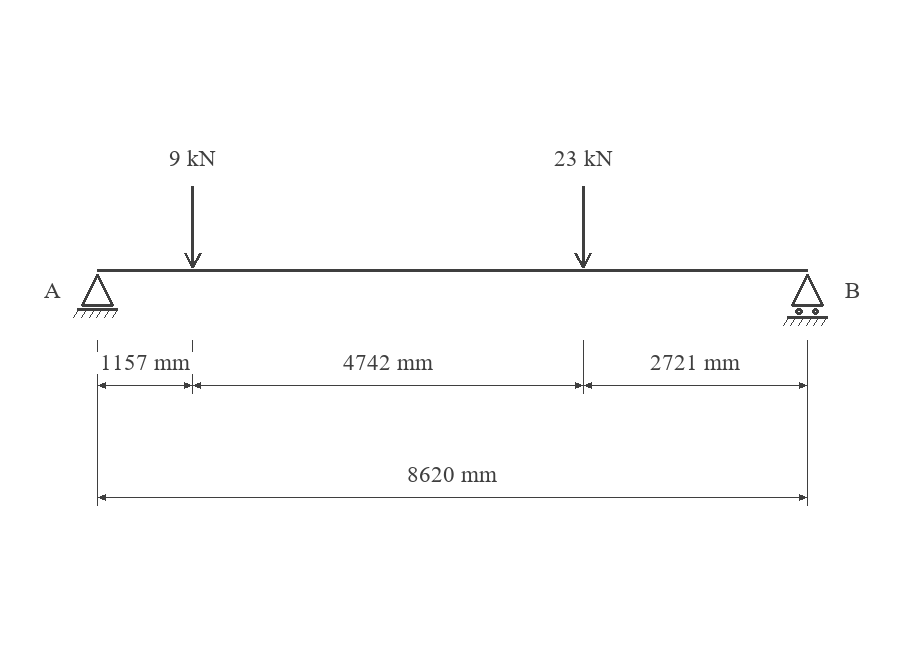pin_support: (73, 274, 118, 318)
point_load: (184, 186, 202, 268), (574, 186, 592, 268)
roller_support: (783, 274, 828, 326)
